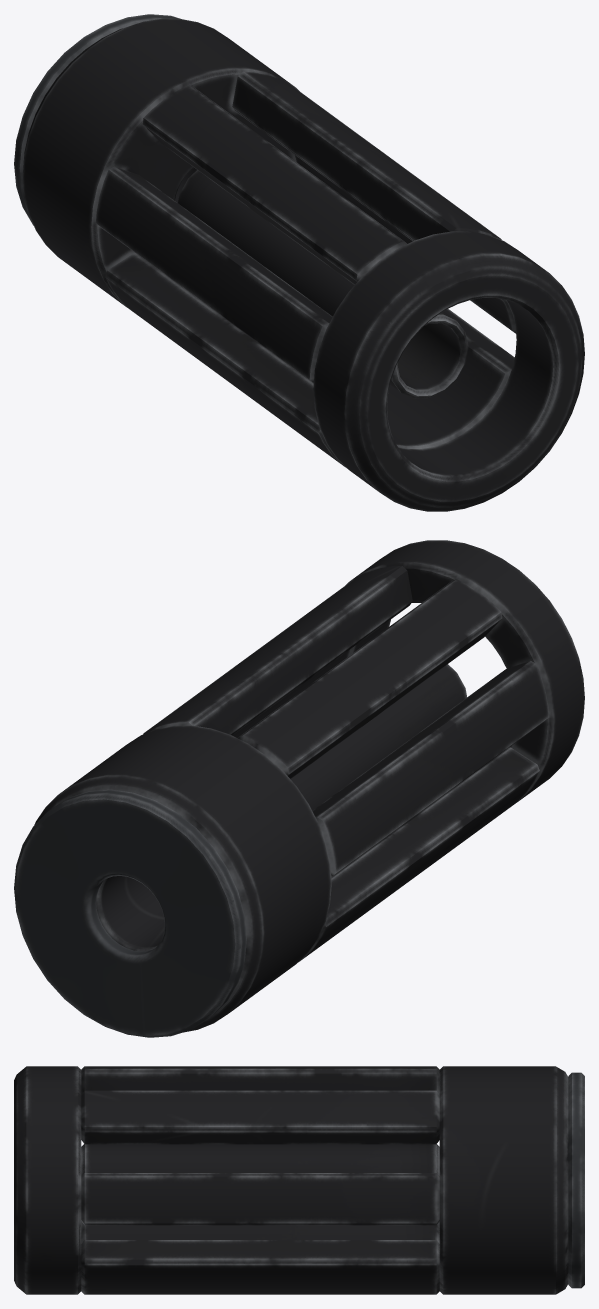
File: Muzzle_FlashHider.fbx
3 views of the same model, one above another, from view 1: azimuth 30°, elevation 25°; view 2: azimuth 150°, elevation 25°; view 3: azimuth 270°, elevation 25° (orthographic). The views are drawn at different scales.
Visible parts, largest first — view 1: Body; view 2: Body; view 3: Body.
Part boxes in pixels (x1,y1,x2,y2): Body: [14, 14, 584, 511]; Body: [14, 540, 584, 1037]; Body: [14, 1066, 584, 1294].
Bounding box in the file's own units: 0.022 × 0.022 × 0.055.
